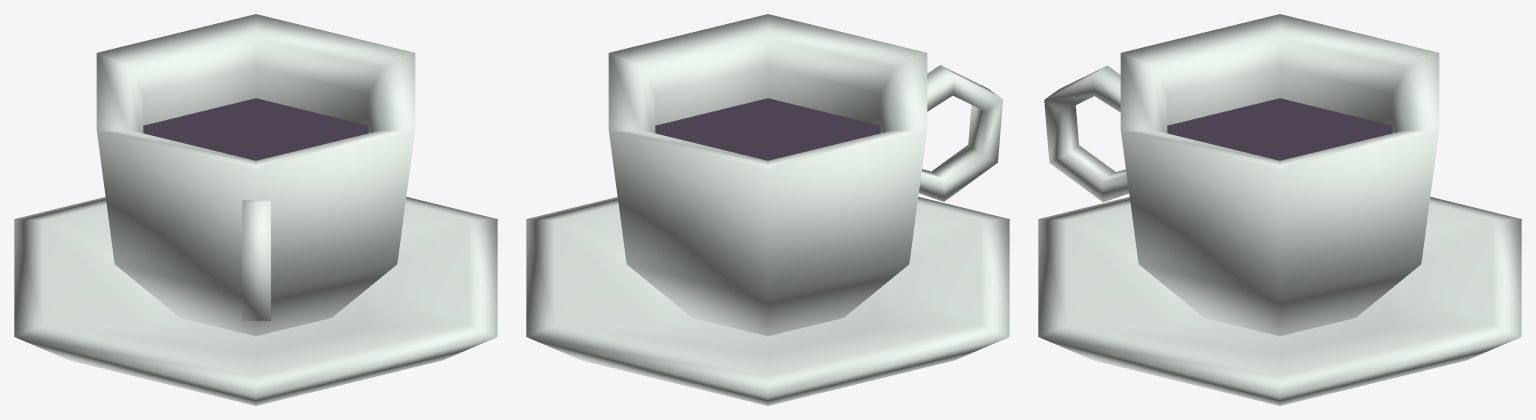
Rendered from cup_02.glb.
3 views of the same model, side by side, from view 1: azimuth 30°, elevation 25°; view 2: azimuth 150°, elevation 25°; view 3: azimuth 270°, elevation 25° (orthographic).
Parts seen in each view (by area): view 1: cup02; view 2: cup02; view 3: cup02.
Part boxes in pixels (bbox=[...]): cup02: bbox=[14, 14, 497, 405]; cup02: bbox=[526, 14, 1009, 405]; cup02: bbox=[1038, 14, 1521, 405].
Size of the model in its own units: 0.1409 by 0.0636 by 0.122.
Materials: 1 (1 with a texture image).
